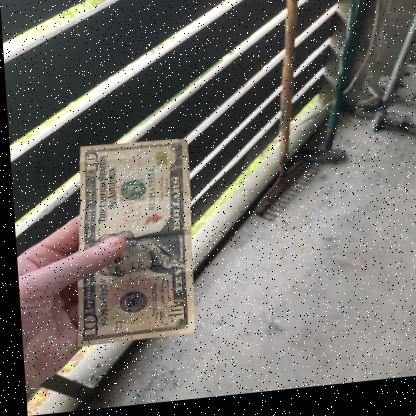ten-front: (72, 141, 200, 344)
